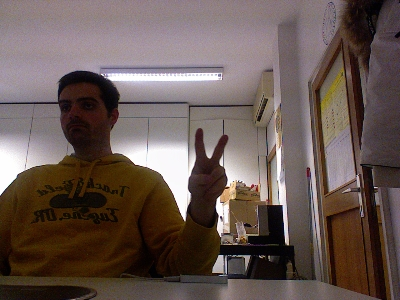剪刀: (187, 126, 228, 203)
